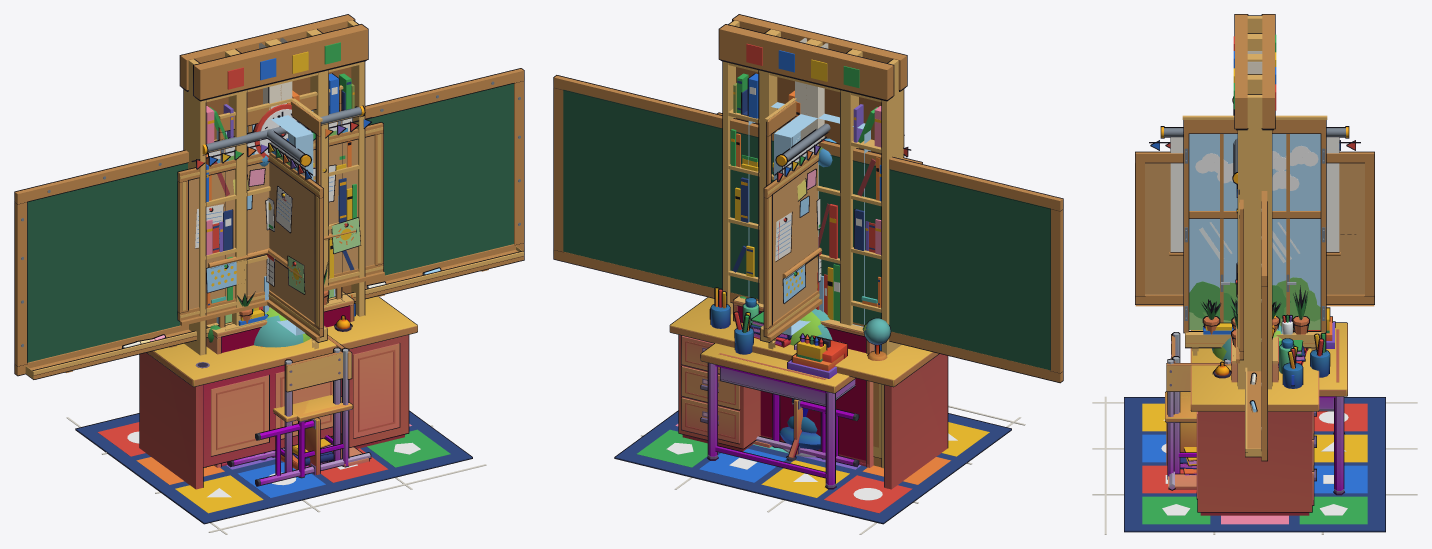
File: fps-kit-classroom.glb
3 renders of one model, left to right at view 1: azimuth 30°, elevation 25°; view 2: azimuth 150°, elevation 25°; view 3: azimuth 270°, elevation 25°, orthographic.
Visible parts, largest first — view 1: KIT_CLASSROOM_Landmark_Chalkboard, KIT_CLASSROOM_Landmark_TeacherDesk, KIT_CLASSROOM_GateFrame, KIT_CLASSROOM_Wall_Cork, KIT_CLASSROOM_Rug, KIT_CLASSROOM_Wall_Cork_R270, KIT_CLASSROOM_GateBooks, KIT_CLASSROOM_DeskSet_A, KIT_CLASSROOM_Win_Bay_A_R90, KIT_CLASSROOM_Win_Bay_A, KIT_CLASSROOM_DeskSet_B, KIT_CLASSROOM_DeskSet_C (+7 smaller); view 2: KIT_CLASSROOM_Landmark_Chalkboard, KIT_CLASSROOM_GateFrame, KIT_CLASSROOM_Landmark_TeacherDesk, KIT_CLASSROOM_Rug, KIT_CLASSROOM_Wall_Cork_R270, KIT_CLASSROOM_DeskSet_A, KIT_CLASSROOM_GateBooks, KIT_CLASSROOM_Bookcase, KIT_CLASSROOM_Win_Bay_A_R90, KIT_CLASSROOM_Chair_Fallen, KIT_CLASSROOM_BookcaseB, KIT_CLASSROOM_Wall_Map_R270 (+6 smaller); view 3: KIT_CLASSROOM_Win_Bay_A_R90, KIT_CLASSROOM_Rug, KIT_CLASSROOM_Landmark_TeacherDesk, KIT_CLASSROOM_Wall_Cork_R270, KIT_CLASSROOM_GateFrame, KIT_CLASSROOM_DeskSet_A, KIT_CLASSROOM_Wall_Map_R270, KIT_CLASSROOM_Landmark_Chalkboard, KIT_CLASSROOM_Win_Bay_C_R90, KIT_CLASSROOM_DeskSet_B, KIT_CLASSROOM_Win_Bay_B_R90, KIT_CLASSROOM_DeskSet_C (+4 smaller).
Boxes of the visible parts, bbox=[...] form: KIT_CLASSROOM_Landmark_Chalkboard: bbox=[14, 68, 524, 379]; KIT_CLASSROOM_Landmark_TeacherDesk: bbox=[139, 296, 417, 489]; KIT_CLASSROOM_GateFrame: bbox=[179, 14, 368, 468]; KIT_CLASSROOM_Wall_Cork: bbox=[177, 117, 384, 325]; KIT_CLASSROOM_Rug: bbox=[75, 410, 472, 524]; KIT_CLASSROOM_Wall_Cork_R270: bbox=[260, 43, 323, 340]; KIT_CLASSROOM_GateBooks: bbox=[206, 73, 356, 313]; KIT_CLASSROOM_DeskSet_A: bbox=[261, 347, 342, 478]; KIT_CLASSROOM_Win_Bay_A_R90: bbox=[269, 38, 327, 349]; KIT_CLASSROOM_Win_Bay_A: bbox=[216, 38, 344, 330]; KIT_CLASSROOM_DeskSet_B: bbox=[271, 335, 353, 478]; KIT_CLASSROOM_DeskSet_C: bbox=[227, 417, 371, 486]; KIT_CLASSROOM_Landmark_Chalkboard: bbox=[553, 75, 1063, 383]; KIT_CLASSROOM_GateFrame: bbox=[718, 14, 907, 468]; KIT_CLASSROOM_Landmark_TeacherDesk: bbox=[669, 287, 948, 489]; KIT_CLASSROOM_Rug: bbox=[614, 410, 1011, 524]; KIT_CLASSROOM_Wall_Cork_R270: bbox=[763, 43, 827, 341]; KIT_CLASSROOM_DeskSet_A: bbox=[700, 311, 855, 489]; KIT_CLASSROOM_GateBooks: bbox=[730, 73, 881, 321]; KIT_CLASSROOM_Bookcase: bbox=[733, 300, 873, 467]; KIT_CLASSROOM_Win_Bay_A_R90: bbox=[760, 39, 817, 349]; KIT_CLASSROOM_Chair_Fallen: bbox=[753, 399, 859, 467]; KIT_CLASSROOM_BookcaseB: bbox=[733, 296, 874, 467]; KIT_CLASSROOM_Wall_Map_R270: bbox=[775, 123, 830, 279]; KIT_CLASSROOM_Win_Bay_A_R90: bbox=[1182, 115, 1327, 355]; KIT_CLASSROOM_Rug: bbox=[1124, 397, 1385, 532]; KIT_CLASSROOM_Landmark_TeacherDesk: bbox=[1190, 330, 1319, 515]; KIT_CLASSROOM_Wall_Cork_R270: bbox=[1135, 51, 1374, 306]; KIT_CLASSROOM_GateFrame: bbox=[1233, 14, 1276, 389]; KIT_CLASSROOM_DeskSet_A: bbox=[1171, 316, 1347, 495]; KIT_CLASSROOM_Wall_Map_R270: bbox=[1160, 126, 1349, 255]; KIT_CLASSROOM_Landmark_Chalkboard: bbox=[1245, 191, 1267, 461]; KIT_CLASSROOM_Win_Bay_C_R90: bbox=[1189, 146, 1320, 331]; KIT_CLASSROOM_DeskSet_B: bbox=[1165, 307, 1330, 479]; KIT_CLASSROOM_Win_Bay_B_R90: bbox=[1203, 151, 1316, 334]; KIT_CLASSROOM_DeskSet_C: bbox=[1166, 338, 1296, 490].
Bounding box in the file's own units: 21.94 × 17.08 × 11.99.
Materials: 1 (1 with a texture image).
